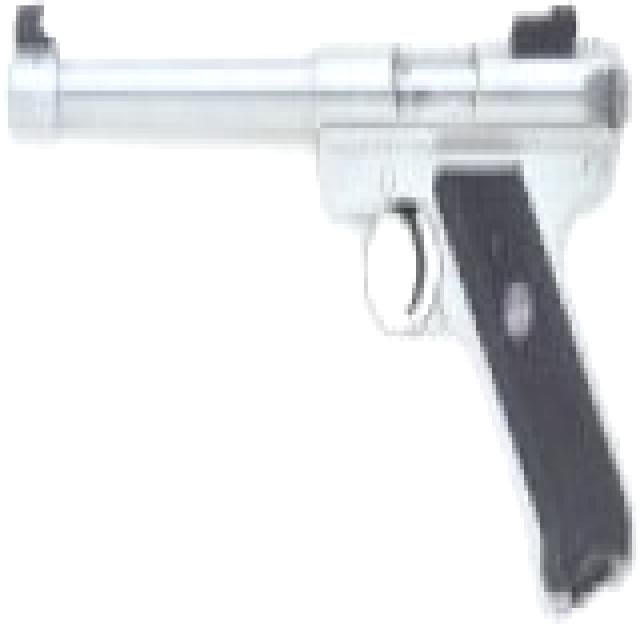pistol: (16, 0, 636, 613)
